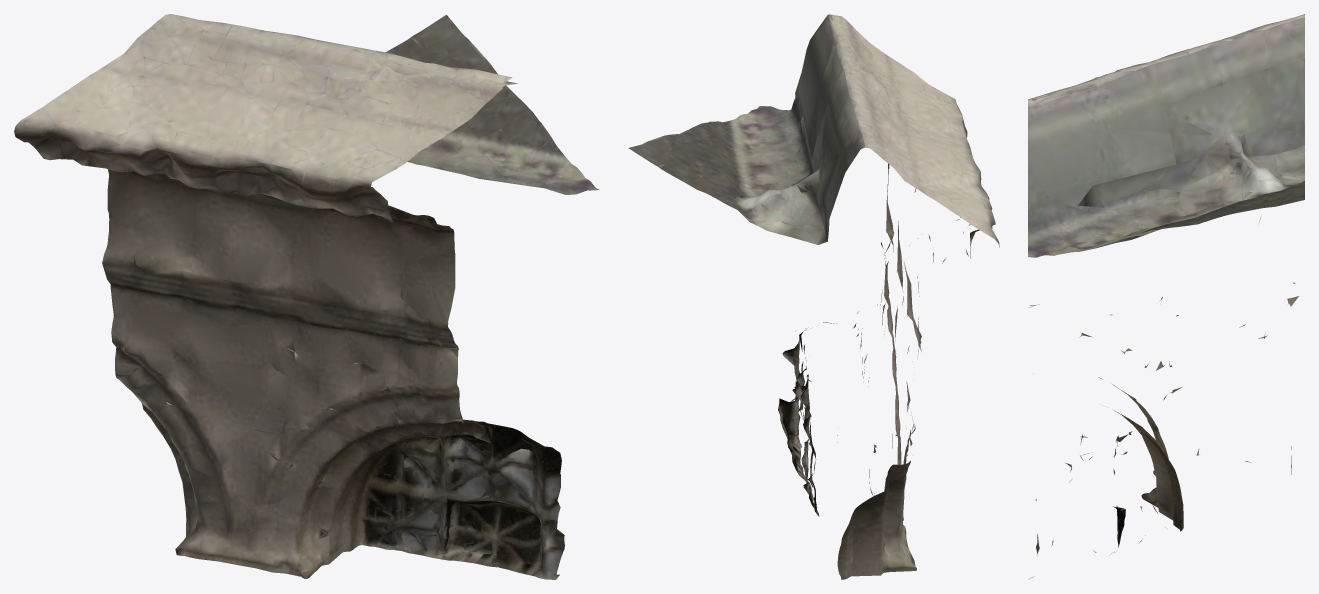
3 views of the same model, side by side, from view 1: azimuth 30°, elevation 25°; view 2: azimuth 150°, elevation 25°; view 3: azimuth 270°, elevation 25° (orthographic). The views are drawn at different scales.
Size of the model in its own units: 4.72 by 5.34 by 2.9.
1 material, 1 textured.
